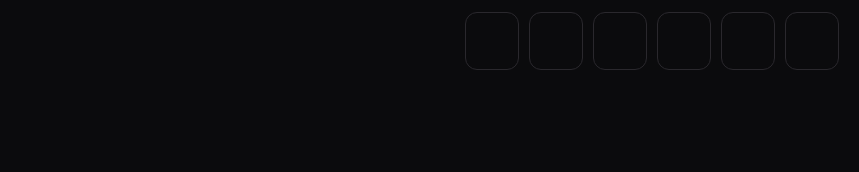
OtpInput › moves forward as digits are typed
This screenshot has width=859, height=172.
Click the field named "Verification code, digit 1 of 6" at x=492, y=41, box [465,12,519,70]
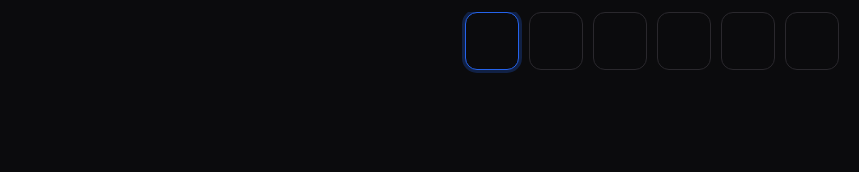
Type keys "123456"
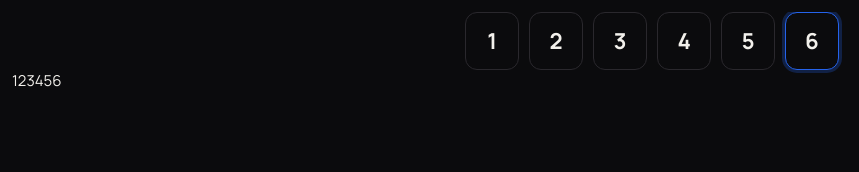
Expected: the field named "Verification code, digit 6 of 6" holds "6", [785,12,839,70]
